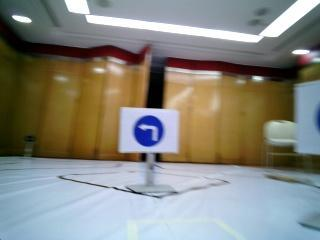left: (123, 107, 181, 153)
